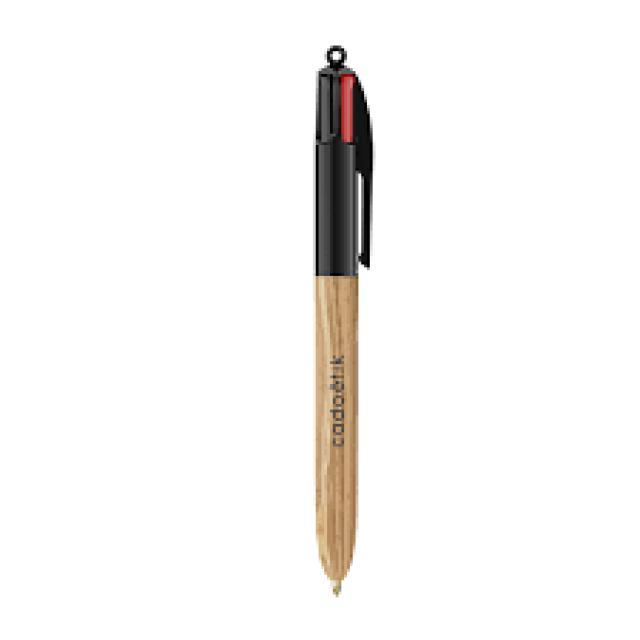pen: (316, 45, 372, 594), (316, 46, 372, 274)
